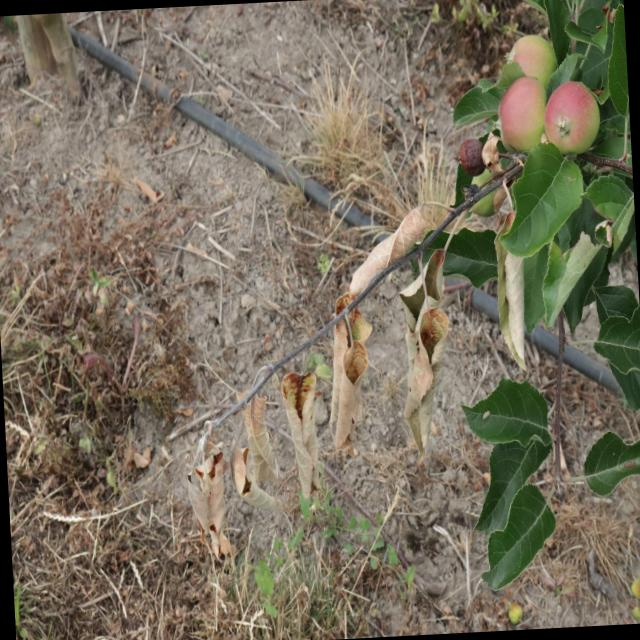-FireBlight-: (185, 169, 522, 566)
